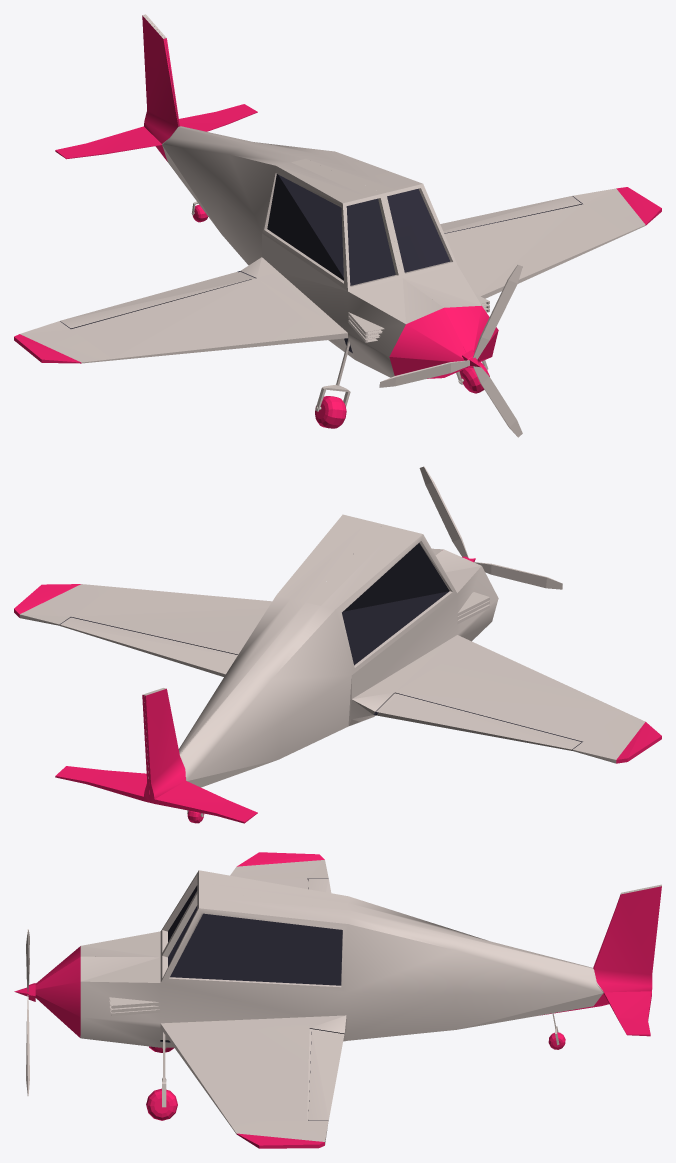
3 renders of one model, top to bottom at view 1: azimuth 30°, elevation 25°; view 2: azimuth 150°, elevation 25°; view 3: azimuth 270°, elevation 25°, orthographic. The views are drawn at different scales.
Visible parts, largest first — view 1: Cube_2_2_Body_0; view 2: Cube_2_2_Body_0; view 3: Cube_2_2_Body_0.
Boxes of the visible parts, box(x1,y1,x2,y2) form: Cube_2_2_Body_0: box(14, 14, 661, 437); Cube_2_2_Body_0: box(14, 466, 661, 823); Cube_2_2_Body_0: box(14, 852, 661, 1148).
Size of the model in its own units: 869 by 277 by 811.
